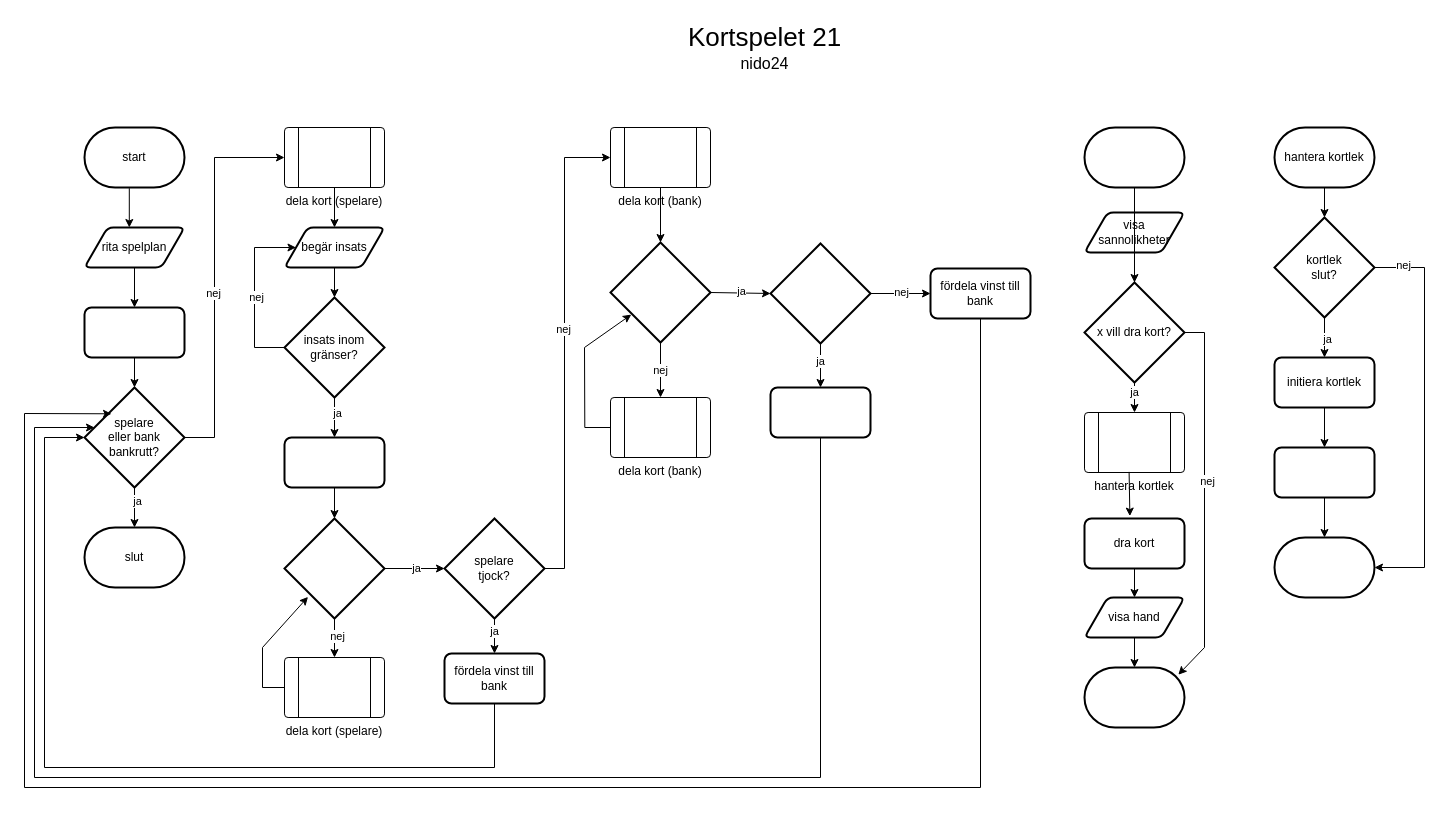
The diagram is 1450 pixels wide and 813 high, and some of its shapes have lost their labels. Here are the shapes that lost their labels. From the top down, the box of each, then its label:
(1083, 126, 1185, 188): dela kort (x)
(609, 241, 711, 343): > 2 kort och bank nöjd / tjock?
(769, 242, 871, 344): bank tjock eller spelare har fler poäng?
(83, 306, 185, 358): fördela 100 pengar till bank och spelare
(769, 386, 871, 438): fördela vinst till spelare
(283, 436, 385, 488): dra insatser från saldon
(1273, 446, 1375, 498): blanda kortleken
(283, 517, 385, 619): > 2 kort och spelare nöjd / tjock?
(1273, 536, 1375, 598): lek hanterad
(1083, 666, 1185, 728): kort delat
